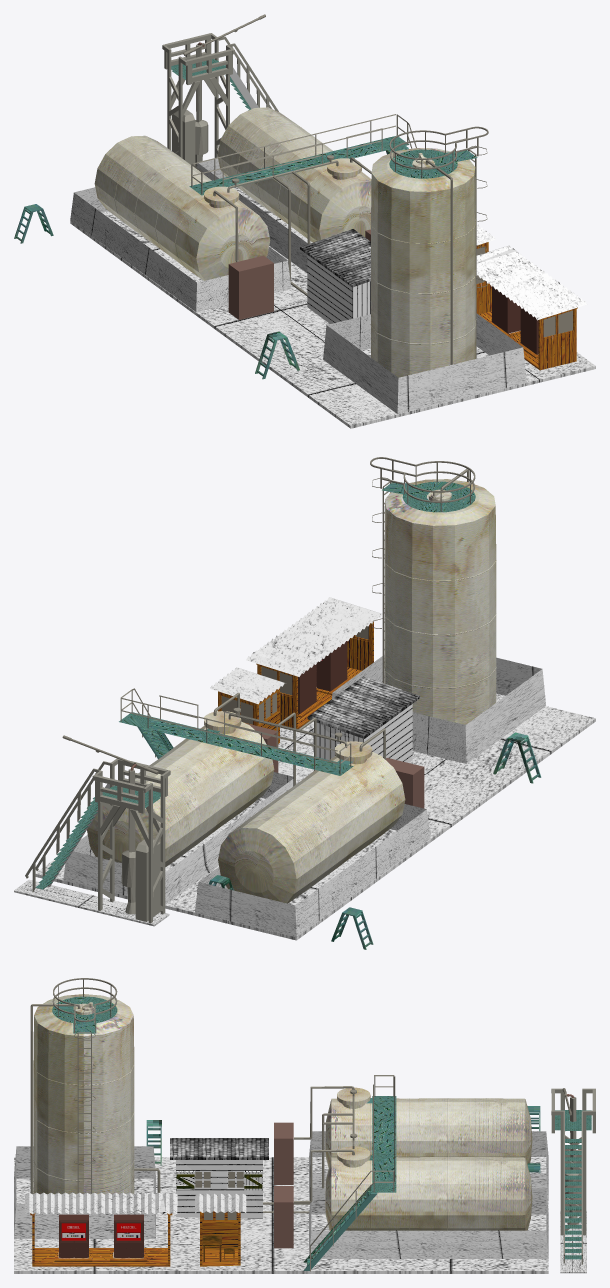
The model's file is factory.obj.
The picture shows the model from 3 angles, top to bottom: view 1: azimuth 30°, elevation 25°; view 2: azimuth 150°, elevation 25°; view 3: azimuth 270°, elevation 25°; orthographic projection. The views are drawn at different scales.
Parts seen in each view (by area): view 1: diesvert, dieswall, dieshor, diesfloo, dieshor1, diestowe, diescel1, diesplat, diesrehu, diesnohu, diesentr, diescell (+8 smaller); view 2: diesvert, dieswall, dieshor, diesfloo, dieshor1, diestowe, diesplat, diescel1, diescell, diesnohu, diesrehu, diesflot (+12 smaller); view 3: diesvert, diesfloo, dieshor1, dieswall, dieshor, diesplat, diesnohu, diescel1, diesrehu, diestowe, diespipe, diescell (+14 smaller).
Part boxes in pixels (x1,y1,x2,y2): diesvert: (370, 148, 476, 377); dieswall: (70, 158, 526, 414); dieshor: (94, 135, 270, 280); diesfloo: (70, 187, 595, 428); dieshor1: (217, 107, 371, 242); diestowe: (162, 33, 278, 158); diescel1: (476, 245, 587, 320); diesplat: (189, 135, 477, 195); diesrehu: (307, 255, 370, 323); diesnohu: (476, 242, 577, 370); diesentr: (228, 255, 273, 319); diescell: (300, 229, 370, 287); diesvert: (384, 479, 496, 724); dieswall: (63, 655, 545, 937); dieshor: (218, 741, 405, 903); diesfloo: (35, 687, 595, 940); dieshor1: (87, 711, 274, 866); diestowe: (25, 758, 170, 923); diesplat: (119, 481, 475, 775); diescel1: (246, 597, 382, 676); diescell: (307, 676, 419, 738); diesnohu: (218, 621, 373, 743); diesrehu: (316, 704, 412, 762); diesflot: (14, 879, 169, 926); diesvert: (33, 994, 134, 1194); diesfloo: (14, 1157, 548, 1273); dieshor1: (325, 1146, 532, 1230); dieswall: (14, 1131, 548, 1258); dieshor: (325, 1087, 532, 1167); diesplat: (52, 996, 396, 1270); diesnohu: (30, 1211, 240, 1266); diescel1: (25, 1192, 177, 1214); diesrehu: (176, 1160, 262, 1218); diestowe: (551, 1088, 595, 1264); diespipe: (30, 1004, 356, 1213); diescell: (170, 1138, 268, 1159).
Bounding box in the file's own units: 0.4687 × 0.3353 × 0.8062.
23 materials, 16 textured.
